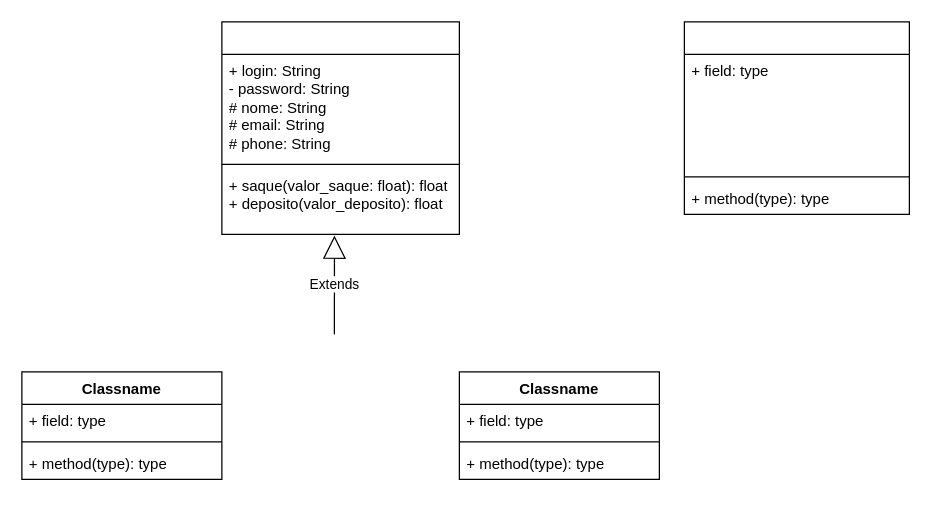
Image size: 931x505. Some labels were removed from this diagram. The shapes that lost their labels are listed below. From the top down, each one's box as (x1, y1, x2, y2) in pixels, then its label:
(221, 21, 459, 234): Pessoa
(683, 21, 909, 214): Conta
